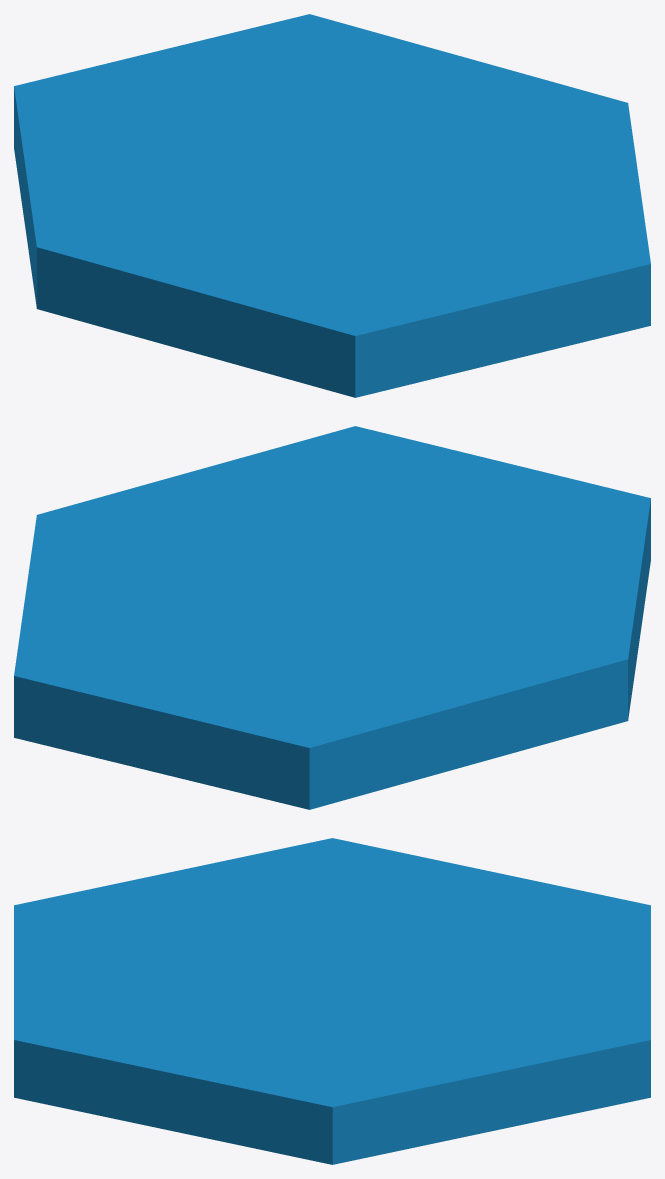
The model's file is TrapPoison.fbx.
3 views of the same model, one above another, from view 1: azimuth 30°, elevation 25°; view 2: azimuth 150°, elevation 25°; view 3: azimuth 270°, elevation 25° (orthographic). The views are drawn at different scales.
Visible parts, largest first — view 1: Icosphere; view 2: Icosphere; view 3: Icosphere.
Boxes of the visible parts, x1,y1,x2,y2 form: Icosphere: [14, 14, 650, 397]; Icosphere: [14, 426, 650, 809]; Icosphere: [14, 838, 650, 1164].
Bounding box in the file's own units: 100 × 10 × 100.
